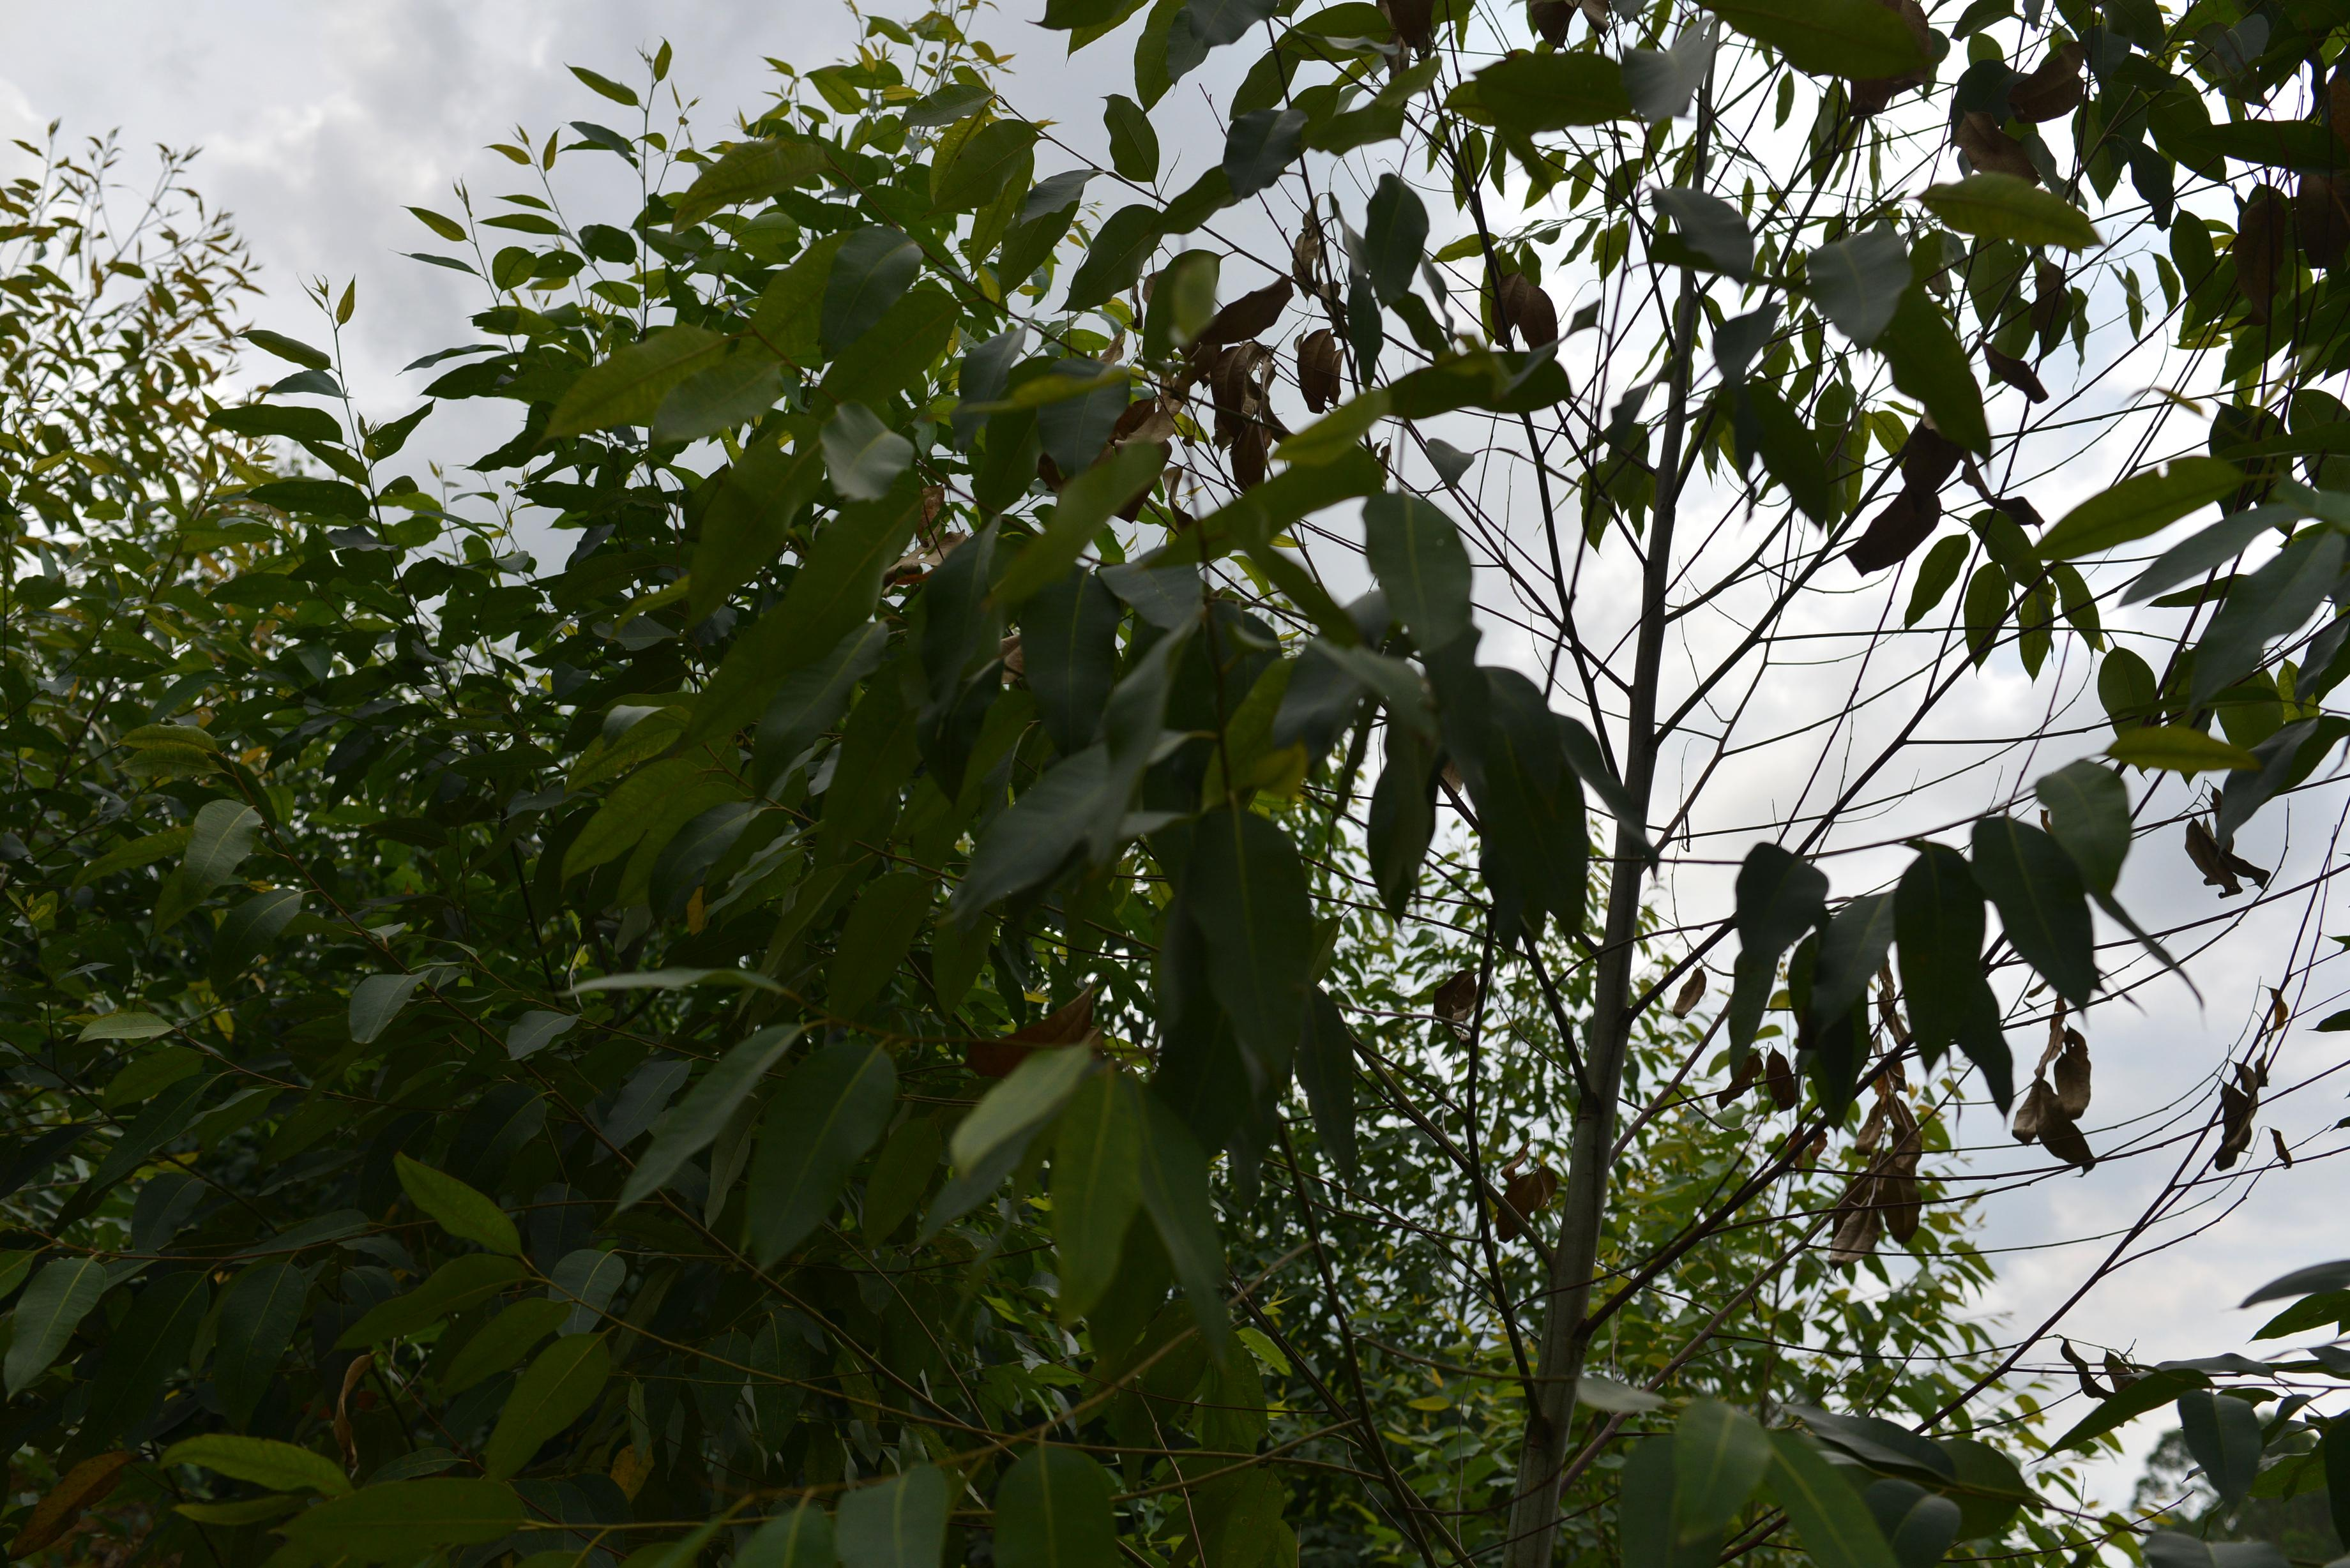Phalopeltis: (1818, 1045, 1939, 1270), (1157, 317, 1286, 486), (943, 978, 1113, 1095), (1998, 961, 2079, 1186), (1304, 252, 1400, 434), (1459, 240, 1580, 362), (1486, 1141, 1573, 1274), (1405, 941, 1498, 1038), (1361, 0, 1459, 61)
